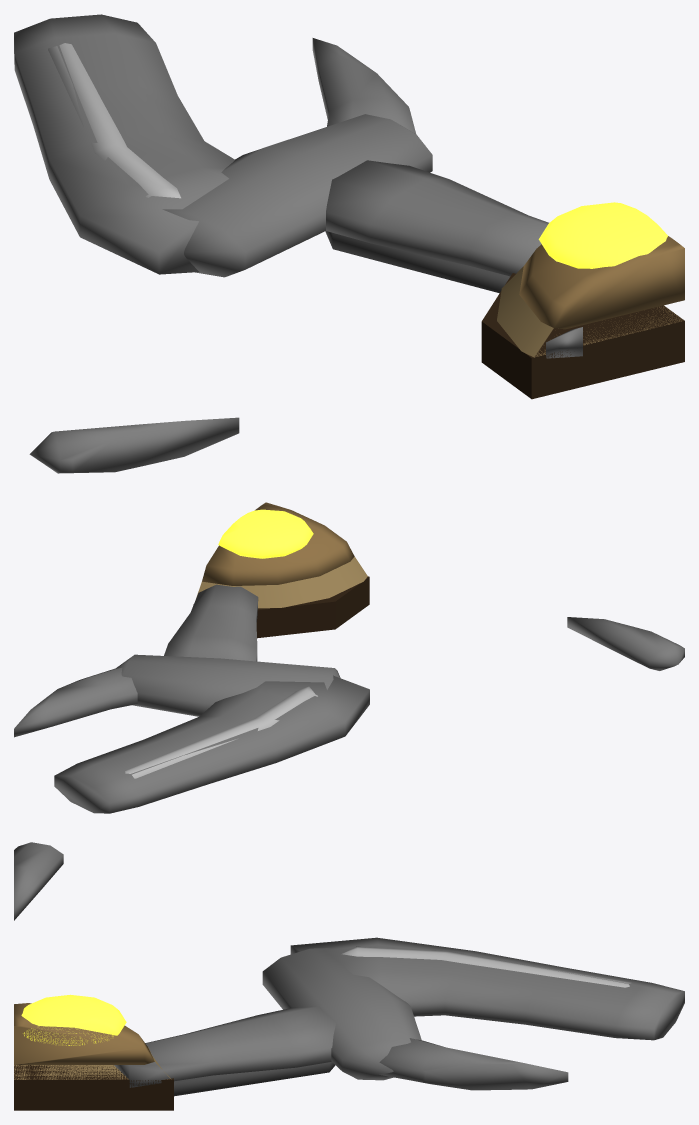
Rendered from newsh-hash-1-f2.glb.
3 renders of one model, top to bottom at view 1: azimuth 30°, elevation 25°; view 2: azimuth 150°, elevation 25°; view 3: azimuth 270°, elevation 25°, orthographic. The views are drawn at different scales.
Parts seen in each view (by area): view 1: newsh-hash-1-f2; view 2: newsh-hash-1-f2; view 3: newsh-hash-1-f2.
Part boxes in pixels (<box>): newsh-hash-1-f2: <box>14,14,684,473</box>; newsh-hash-1-f2: <box>14,502,684,813</box>; newsh-hash-1-f2: <box>14,842,684,1110</box>.
Size of the model in its own units: 1.61 by 0.295 by 1.98.
